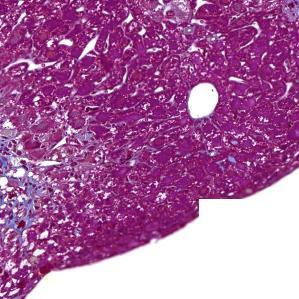fibrosis: (0, 131, 47, 239)
